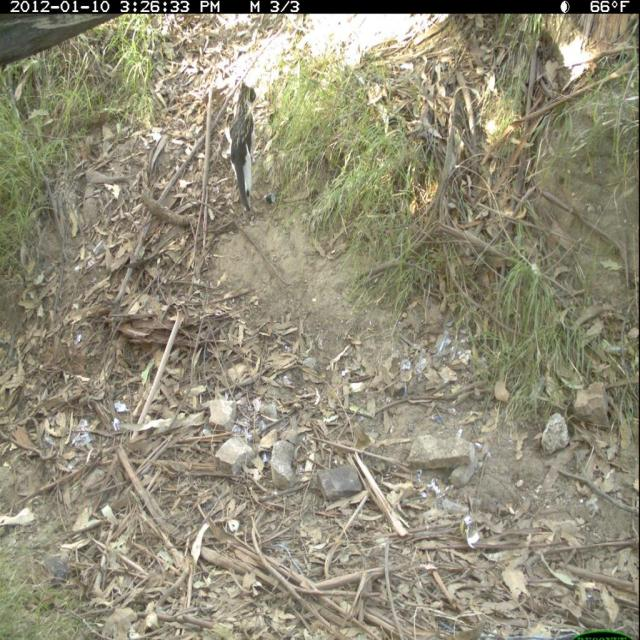cat: (224, 77, 264, 222)
